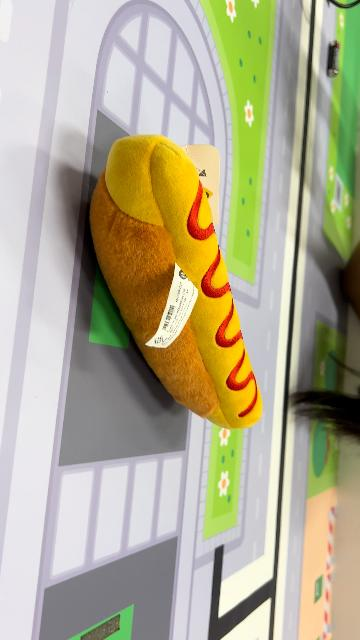hotdog: (89, 134, 265, 432)
